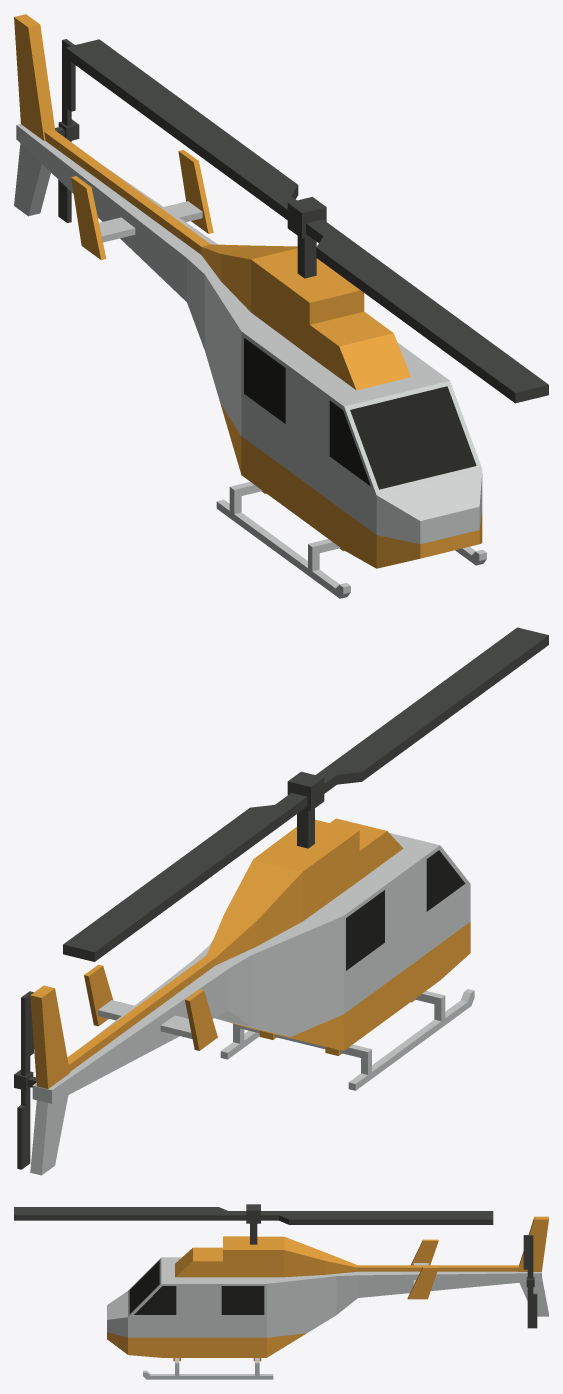
Rendered from Veh_Helicopter_01_Yellow.obj.
3 renders of one model, top to bottom at view 1: azimuth 30°, elevation 25°; view 2: azimuth 150°, elevation 25°; view 3: azimuth 270°, elevation 25°, orthographic. The views are drawn at different scales.
Size of the model in its own units: 1.02 by 2.05 by 6.44.
